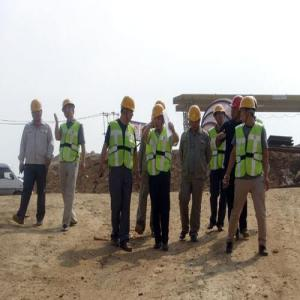red: (231, 95, 243, 118)
yellow: (239, 96, 257, 124), (121, 95, 137, 123), (150, 105, 166, 130), (188, 106, 203, 132), (62, 98, 76, 122), (31, 99, 44, 123), (213, 104, 227, 125)
